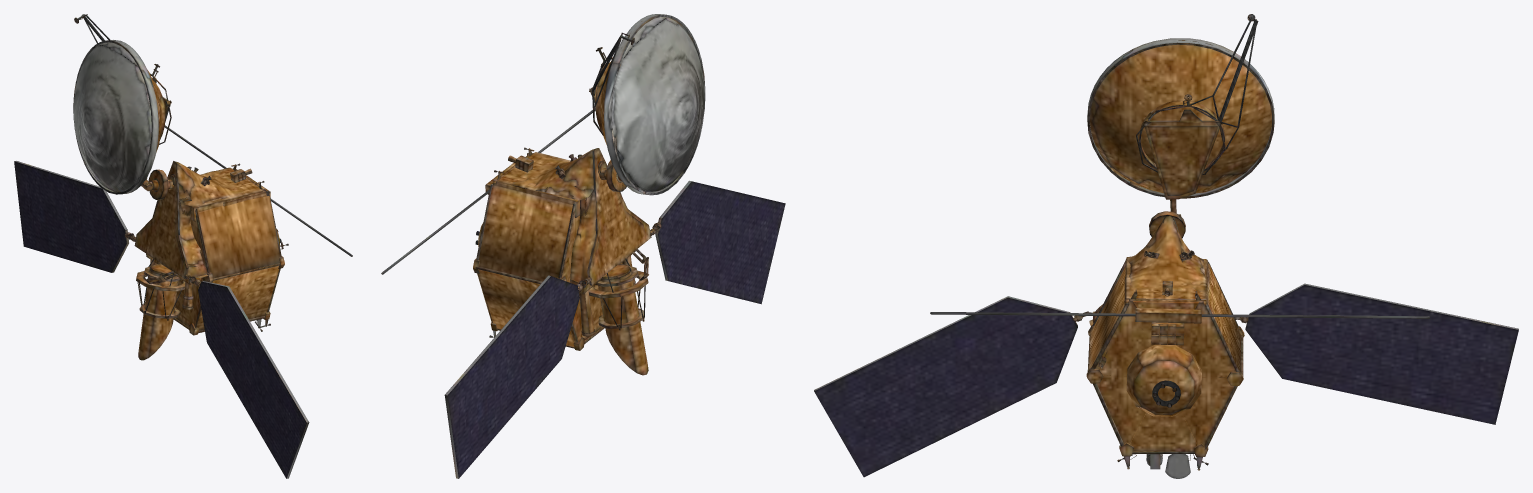
Rendered from space-mro.glb.
3 views of the same model, side by side, from view 1: azimuth 30°, elevation 25°; view 2: azimuth 150°, elevation 25°; view 3: azimuth 270°, elevation 25° (orthographic). The views are drawn at different scales.
Parts seen in each view (by area): view 1: mro_proxy7, mro_proxy5, mro_proxy3, mro_proxy6, mro_proxy2; view 2: mro_proxy7, mro_proxy5, mro_proxy3, mro_proxy6, mro_proxy2; view 3: mro_proxy7, mro_proxy6, mro_proxy5.
Boxes of the visible parts, x1,y1,x2,y2 form: mro_proxy7: (14, 14, 352, 478); mro_proxy5: (134, 161, 213, 335); mro_proxy3: (129, 173, 193, 360); mro_proxy6: (230, 163, 284, 328); mro_proxy2: (137, 259, 181, 320); mro_proxy7: (381, 14, 785, 478); mro_proxy5: (477, 148, 660, 350); mro_proxy3: (581, 160, 658, 375); mro_proxy6: (473, 147, 534, 337); mro_proxy2: (601, 249, 648, 330); mro_proxy7: (814, 14, 1518, 477); mro_proxy6: (1086, 281, 1243, 470); mro_proxy5: (1082, 217, 1244, 478).
Size of the model in its own units: 32.77 by 61 by 89.74.
2 materials, 2 textured.
